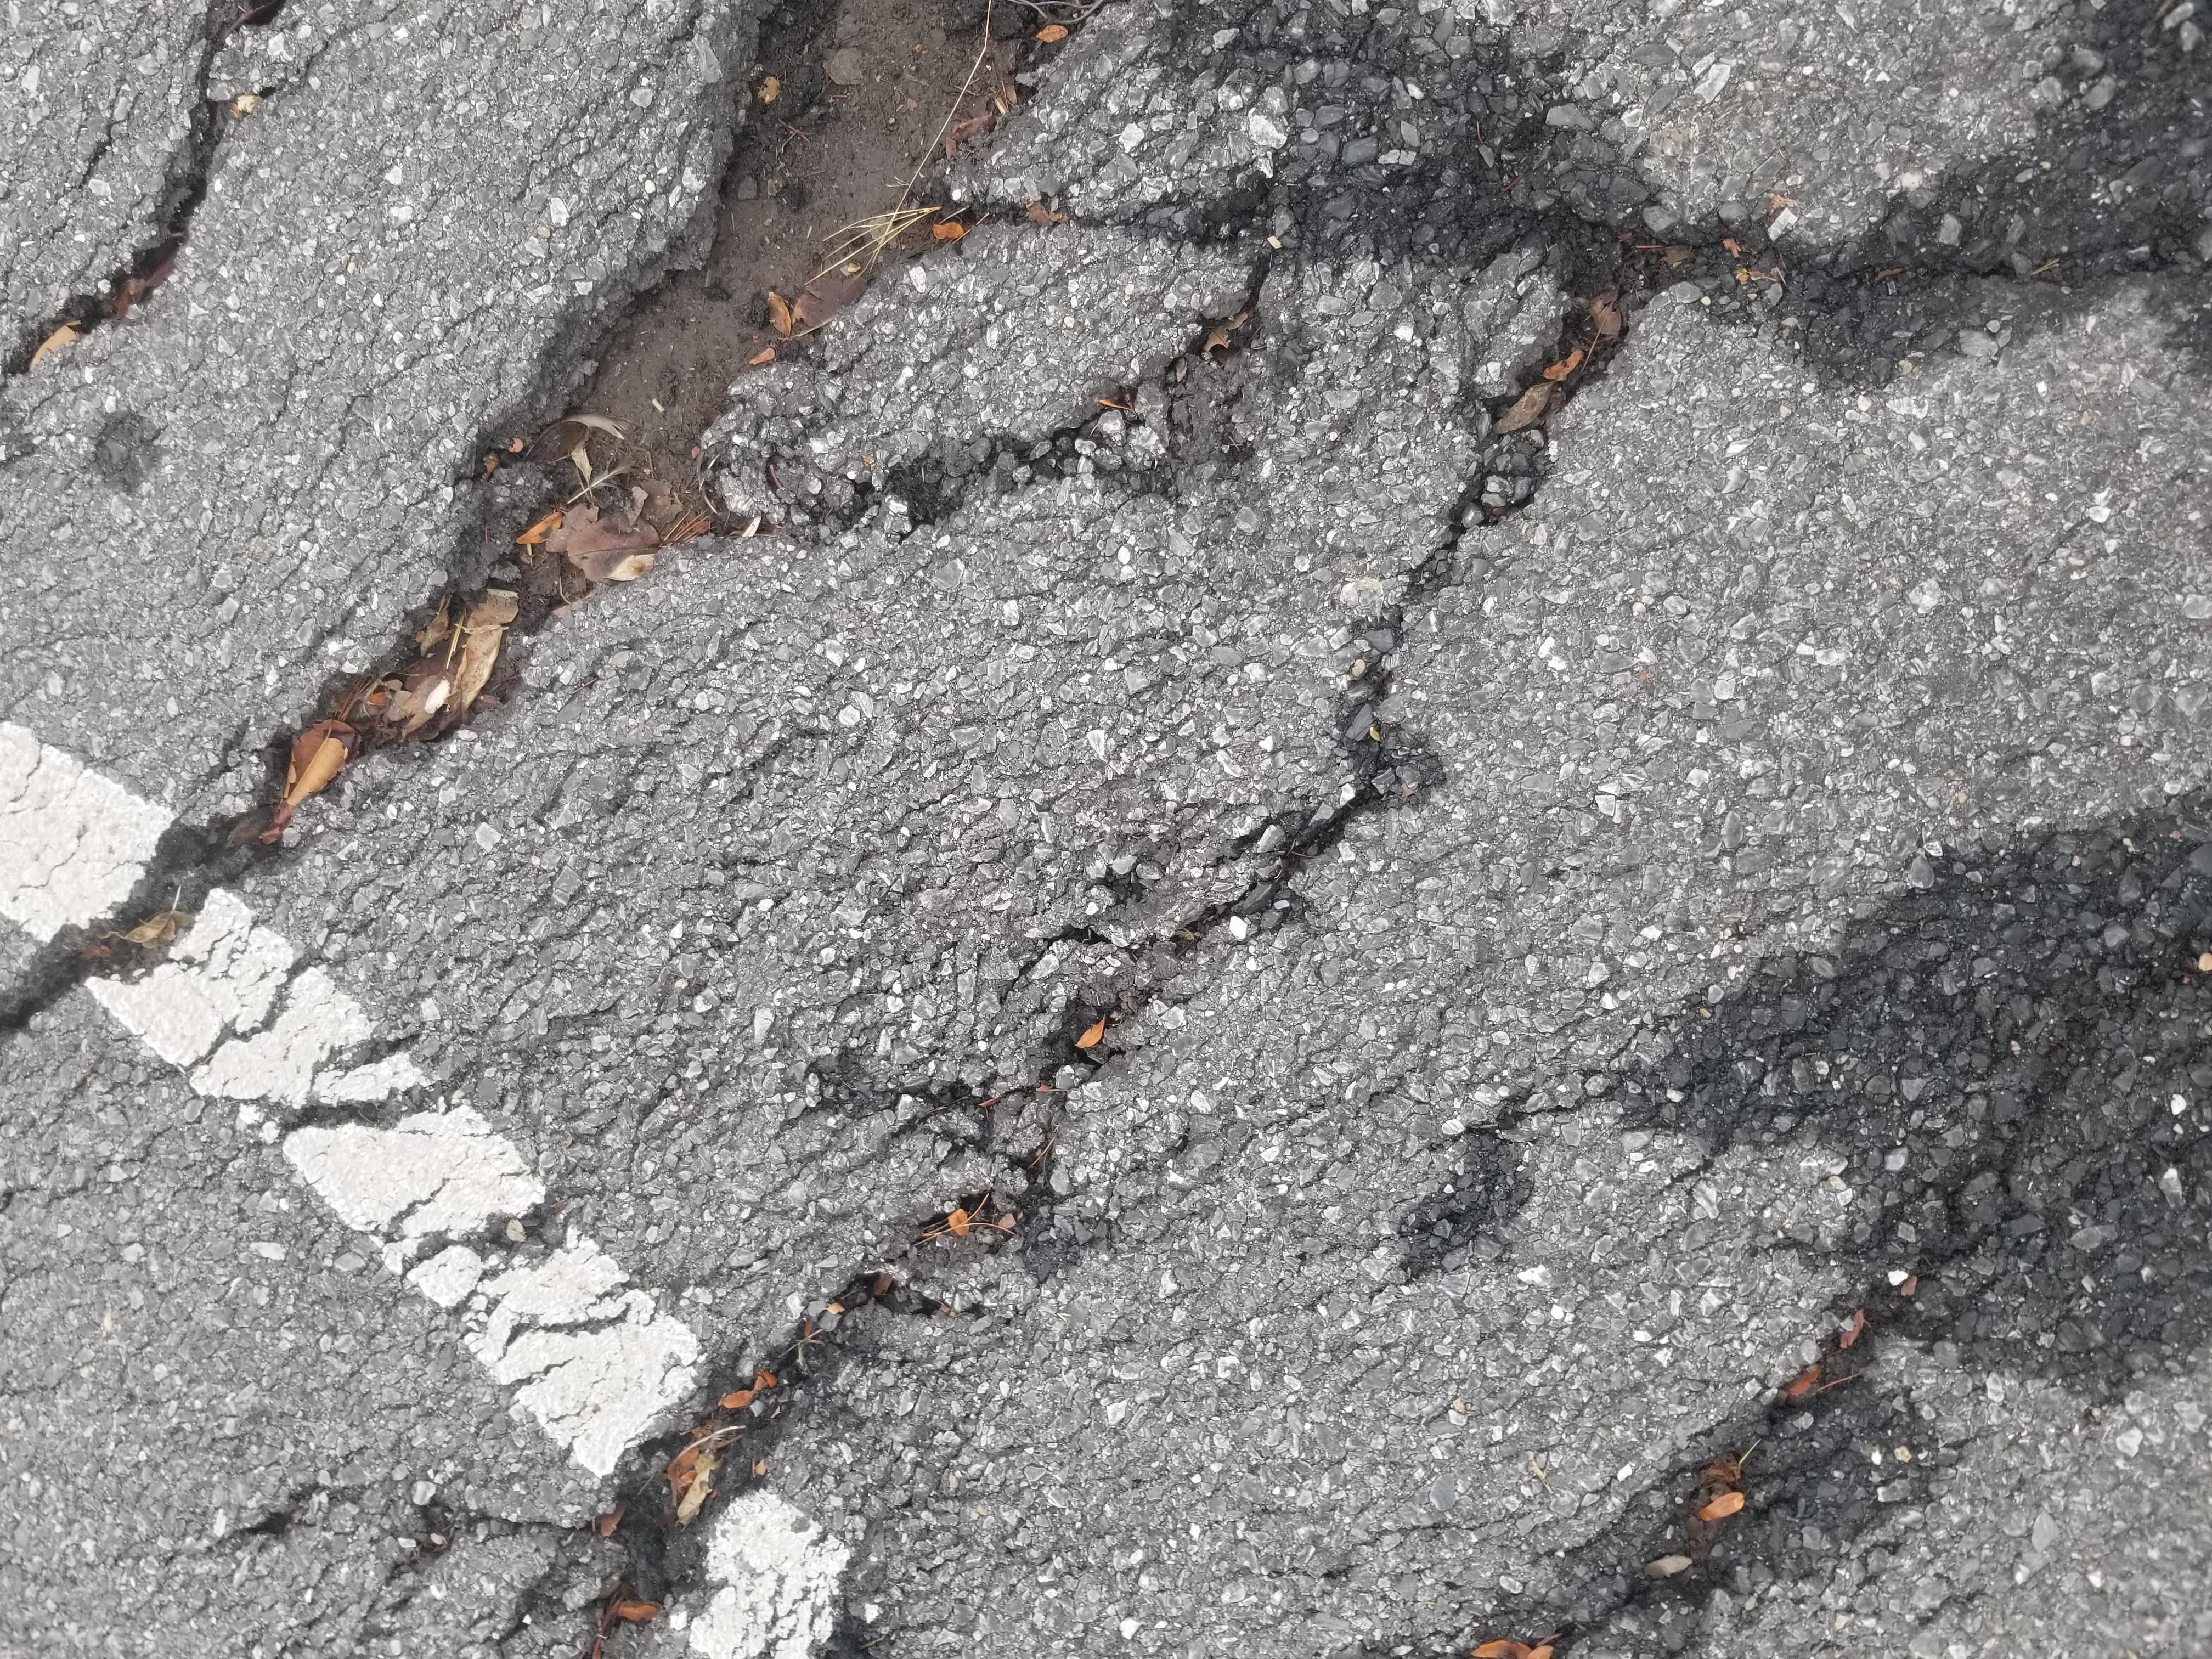crack: (0, 260, 1249, 1094), (1440, 798, 2212, 1657), (51, 1185, 1010, 1659), (745, 3, 1371, 261), (1623, 12, 2212, 213)
pothole: (1397, 333, 2196, 770)
